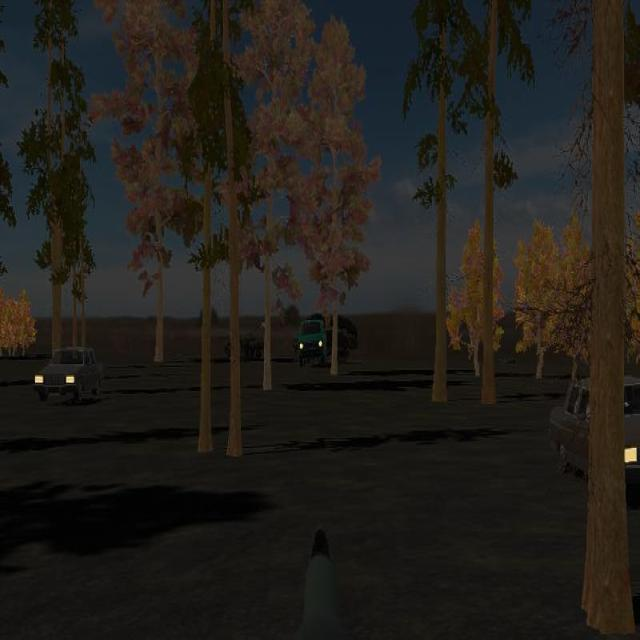car: (549, 372, 640, 499), (33, 346, 102, 404), (295, 316, 328, 366)
